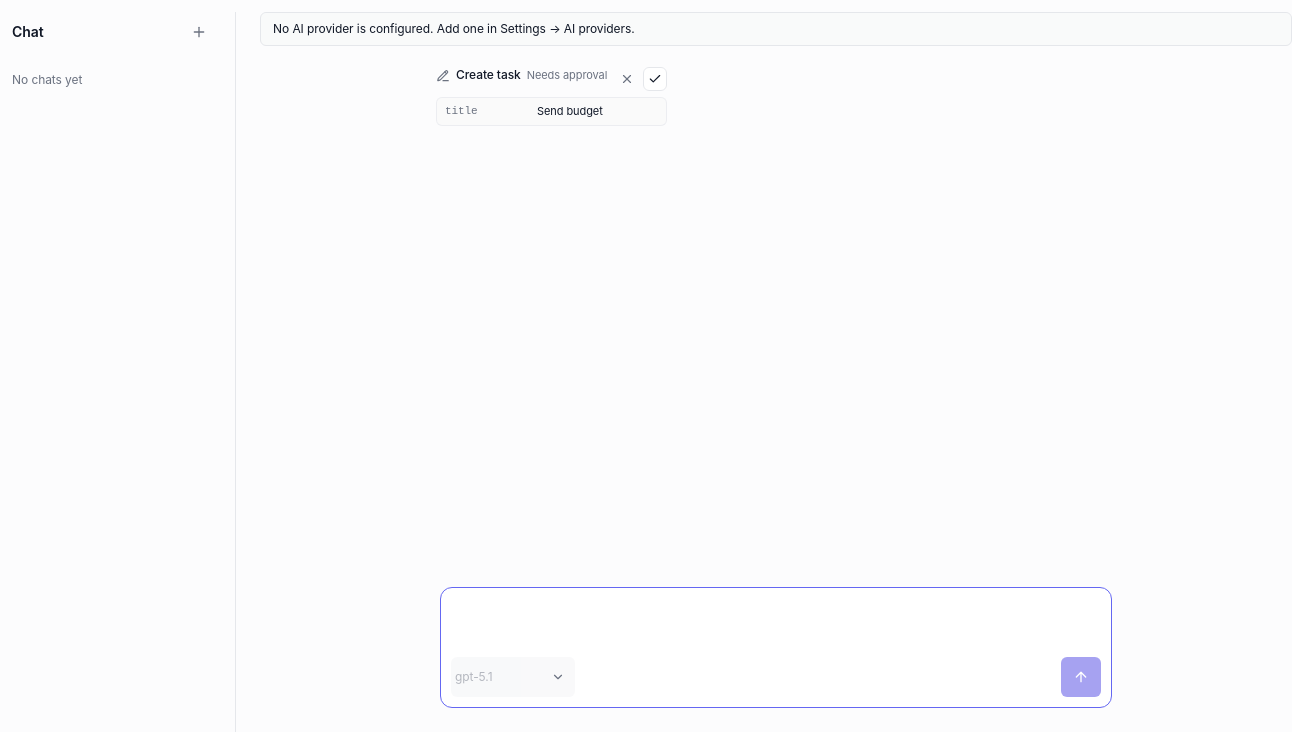
Scenario: ChatSurface › unlocks the composer without executing when approval persistence fails
Type "Try that again" into the text box named "Chat message" at (776, 620), box [441, 588, 1111, 652]
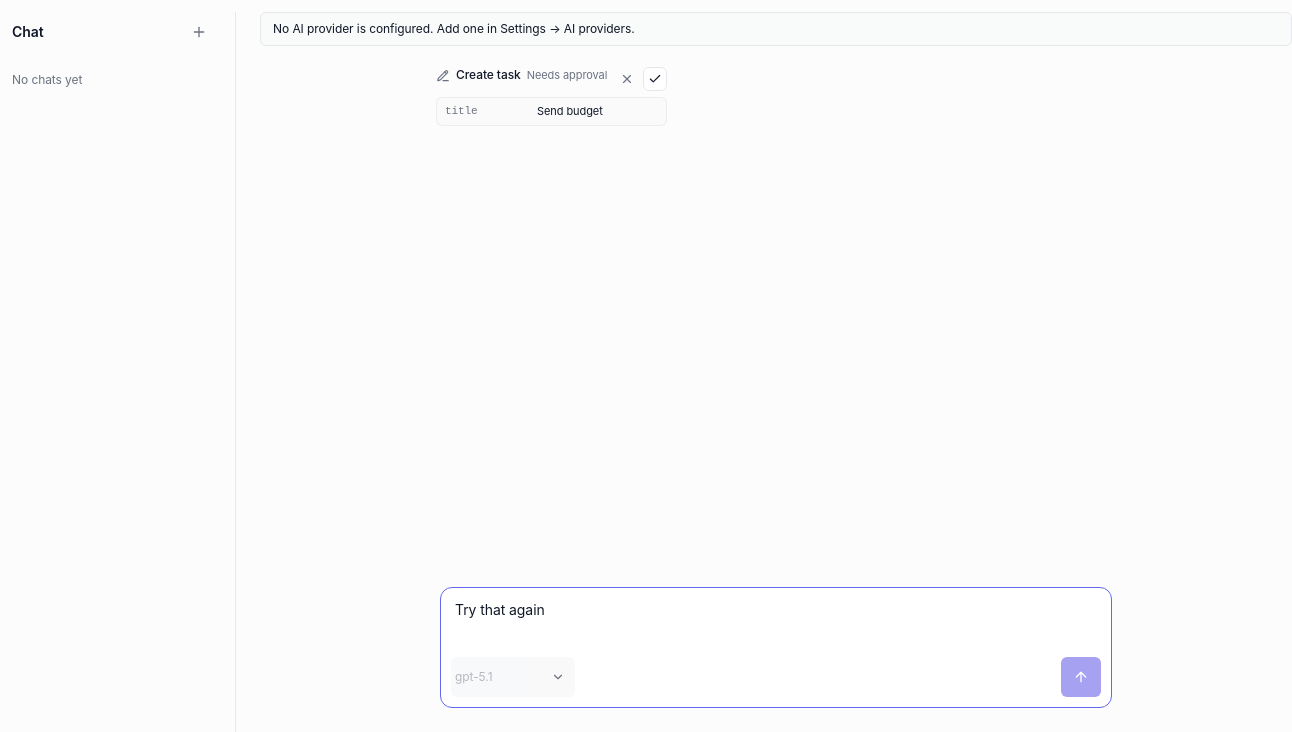
Click the button named "Approve create task" at (655, 79), box [643, 67, 667, 91]
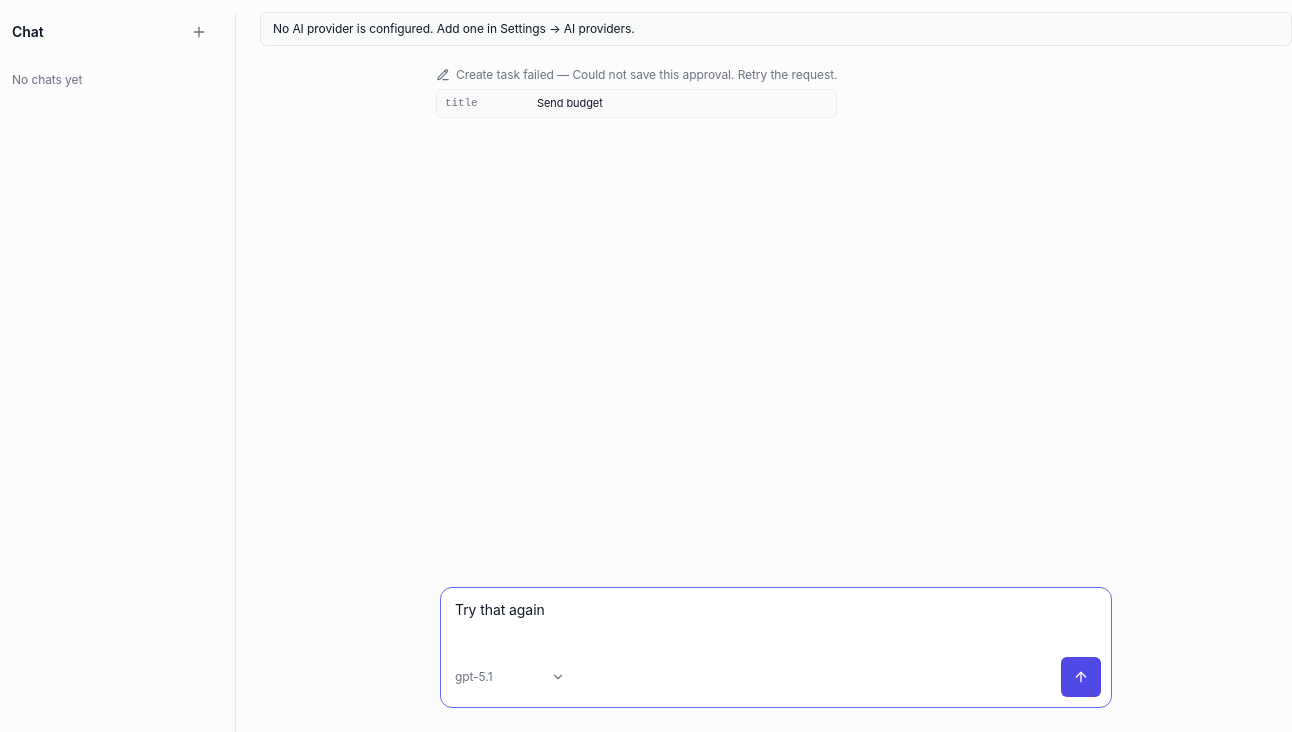
Now the text "Could not save this approval. Retry the request." is shown, box [572, 67, 837, 82]
Now the button named "Send" is enabled, box [1061, 657, 1101, 697]
